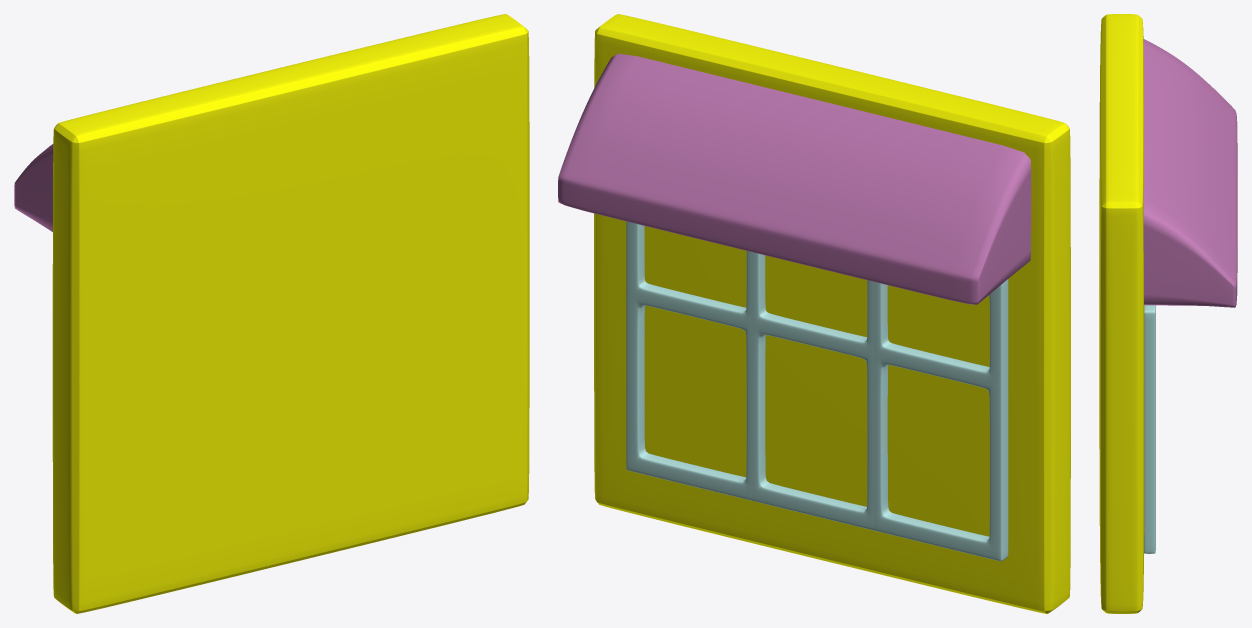
3 views of the same model, side by side, from view 1: azimuth 30°, elevation 25°; view 2: azimuth 150°, elevation 25°; view 3: azimuth 270°, elevation 25° (orthographic). The views are drawn at different scales.
Visible parts, largest first — view 1: pCube672; view 2: pCube672; view 3: pCube672.
Part boxes in pixels (x1,y1,x2,y2): pCube672: (14,14,529,613); pCube672: (558,14,1070,613); pCube672: (1099,14,1237,613).
Bounding box in the file's own units: 0.9995 × 0.9995 × 0.3023.
